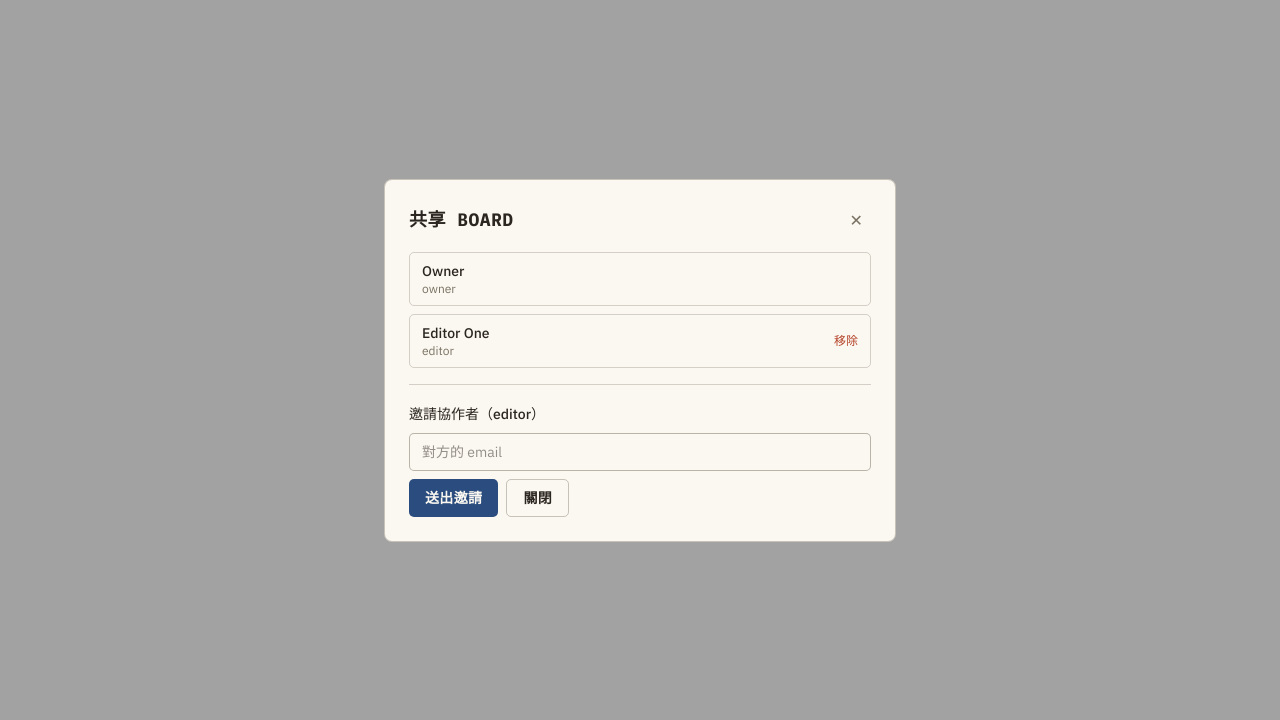
Scenario: BoardSharingPanel › shows a specific message when invite fails with not authorized
The image size is (1280, 720).
expect the text "Owner" is shown: met, box [422,260,464,280]
Type "friend@example.com" into the field with placeholder "對方的 email". click: (640, 452)
box: [409,432,871,470]
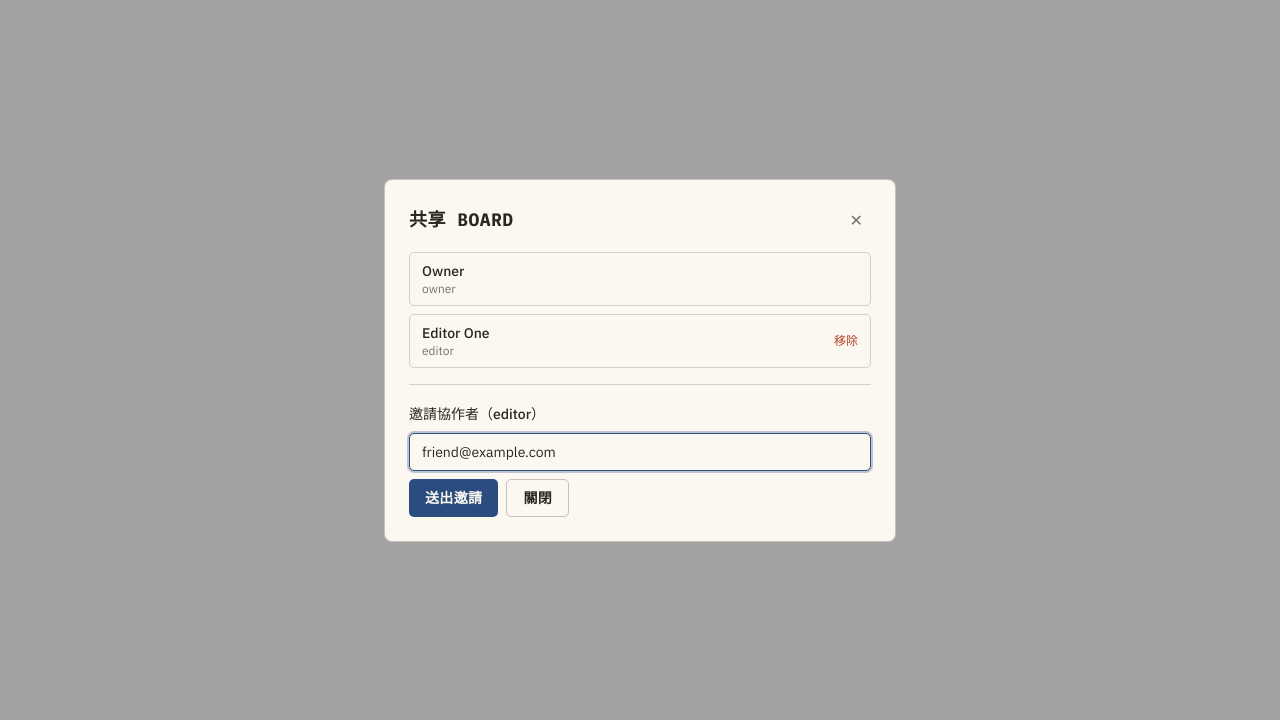
Click the button "送出邀請". click: (454, 498)
box: [409,478,498,516]
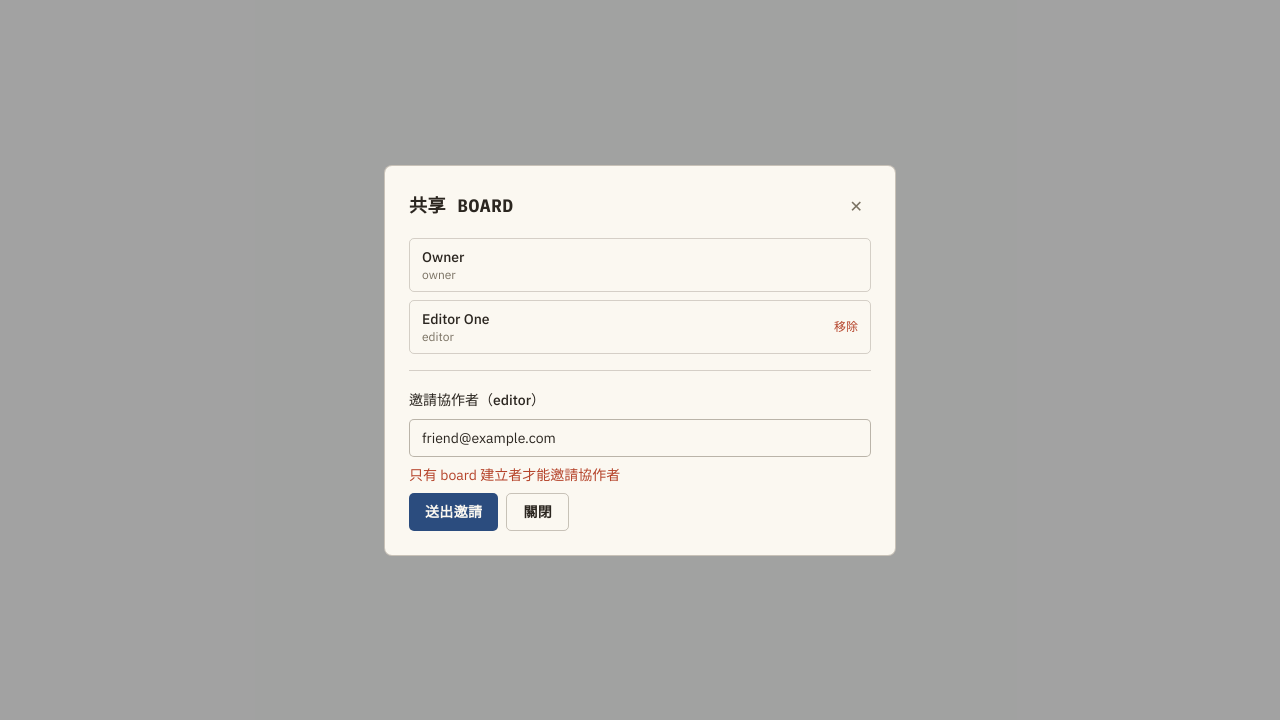
expect the text "只有 board 建立者才能邀請協作者" is shown: met, box [409,466,620,484]
